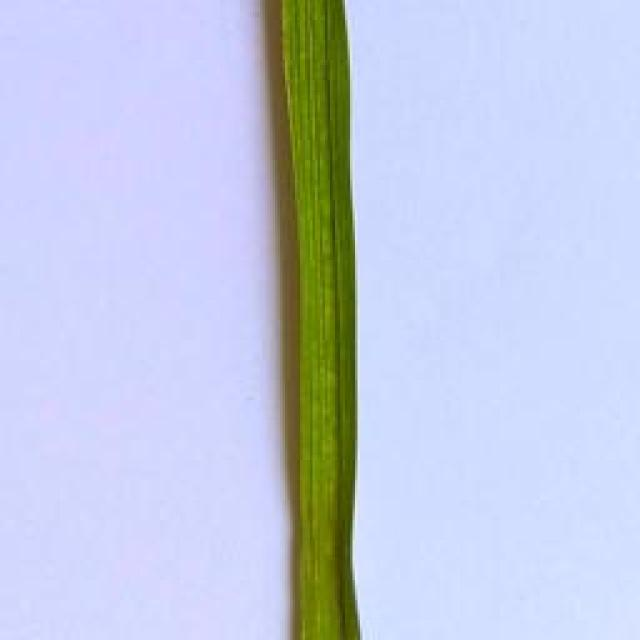Healthy-Plant: (261, 0, 367, 640)
